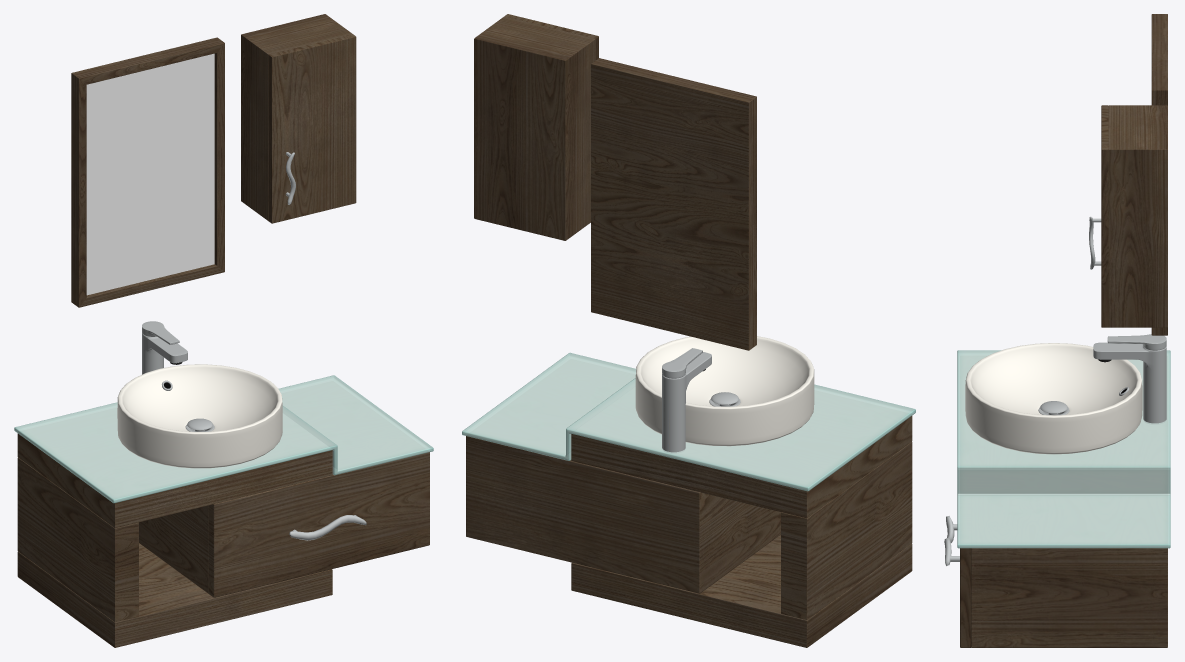
Rendered from vanity.glb.
The picture shows the model from 3 angles, left to right: view 1: azimuth 30°, elevation 25°; view 2: azimuth 150°, elevation 25°; view 3: azimuth 270°, elevation 25°; orthographic projection. The views are drawn at different scales.
Visible parts, largest first — view 1: polySurface10, polySurface6, polySurface8, polySurface4, pPlane1, pSphere3, polySurface3, pCylinder7, pCube7; view 2: polySurface10, polySurface6, polySurface8, pPlane1, polySurface4, pSphere3, polySurface3, pCylinder7; view 3: pPlane1, polySurface6, pSphere3, polySurface8, pCylinder7, polySurface10, pCube7.
Part boxes in pixels (x1,y1,x2,y2): polySurface10: [71, 37, 224, 307]; polySurface6: [139, 452, 429, 597]; polySurface8: [241, 14, 356, 223]; polySurface4: [17, 433, 332, 647]; pPlane1: [14, 375, 433, 503]; pSphere3: [117, 364, 282, 468]; polySurface3: [17, 457, 138, 622]; pCylinder7: [142, 321, 187, 374]; pCube7: [289, 515, 366, 540]; polySurface10: [591, 58, 756, 350]; polySurface6: [466, 436, 780, 593]; polySurface8: [474, 14, 598, 240]; pPlane1: [462, 352, 915, 491]; polySurface4: [571, 416, 912, 647]; pSphere3: [635, 336, 814, 446]; polySurface3: [781, 442, 912, 619]; pCylinder7: [662, 348, 711, 452]; pPlane1: [957, 350, 1170, 548]; polySurface6: [960, 548, 1167, 647]; pSphere3: [965, 343, 1142, 454]; polySurface8: [1101, 105, 1167, 327]; pCylinder7: [1093, 334, 1166, 423]; polySurface10: [1151, 14, 1167, 335]; pCube7: [944, 516, 959, 566].
Bounding box in the file's own units: 1.24 × 1.82 × 0.7101.
Materials: 5 (5 with a texture image).
